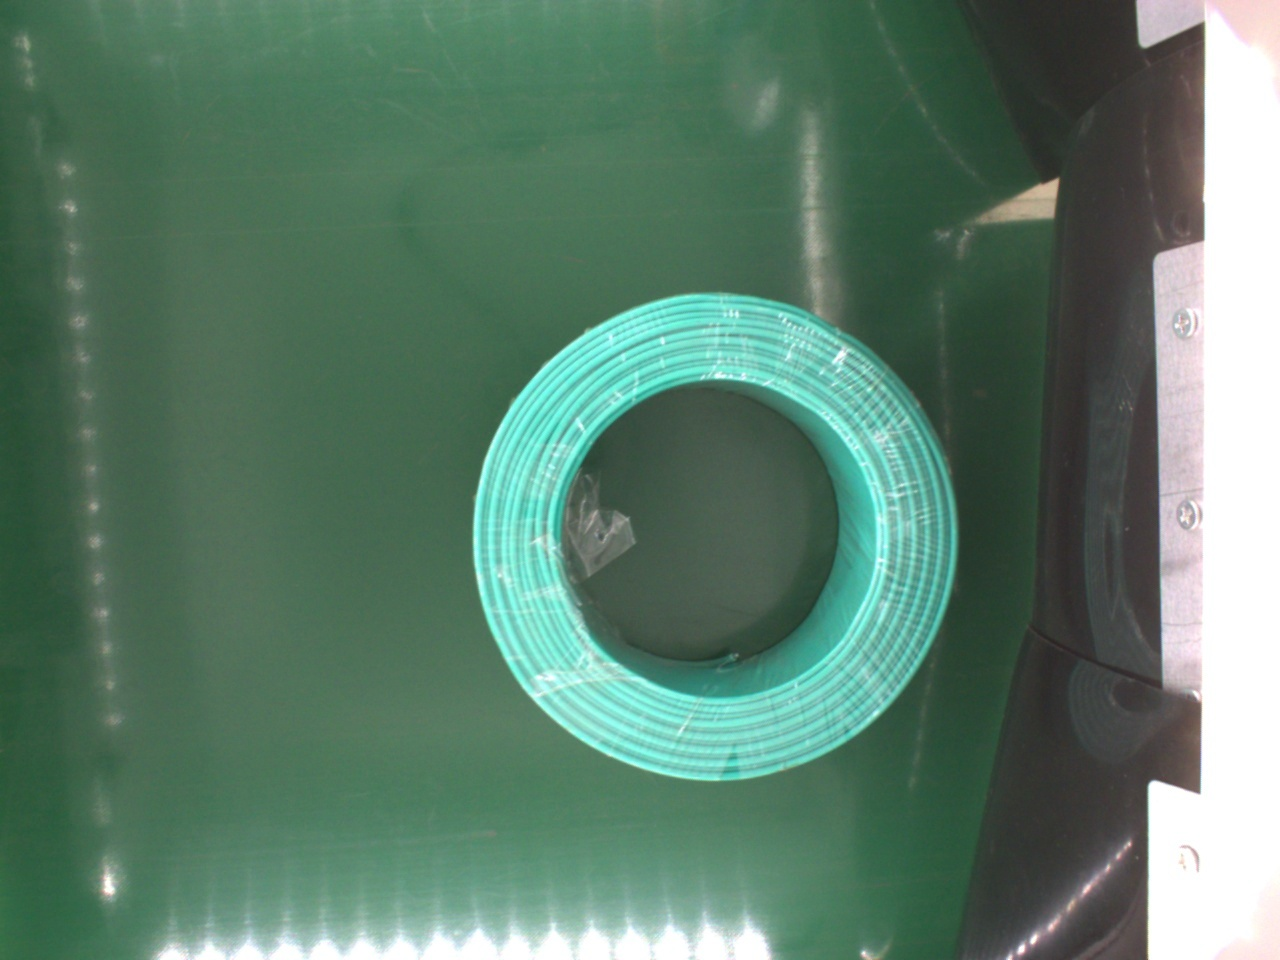green: (464, 288, 959, 782)
